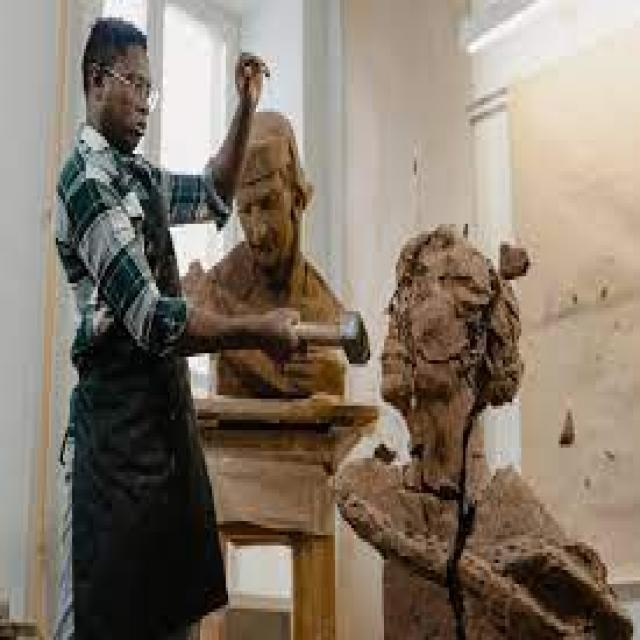hammer: (252, 302, 376, 369)
